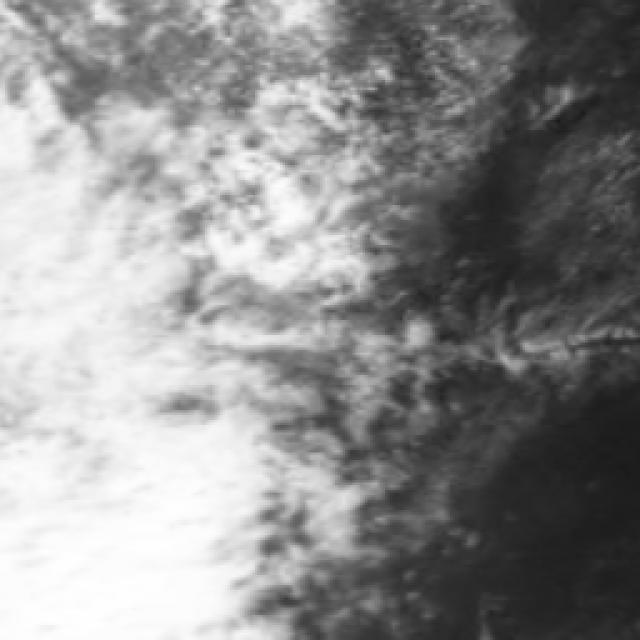CB: (0, 440, 203, 634)
